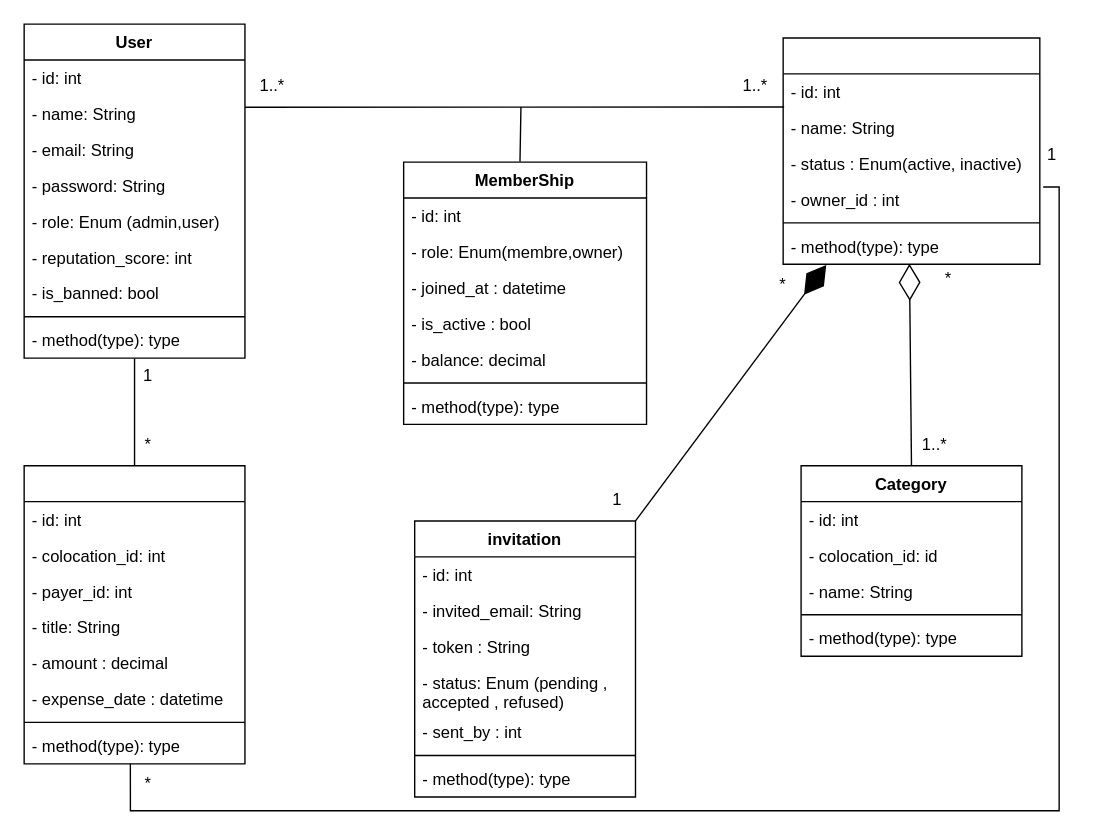
This 1111x836 diagram has some shape labels left out. Here are the shapes that lost their labels. From the top down, the box of each, then its label:
(782, 37, 1040, 264): Colocation
(23, 464, 245, 764): Expence
